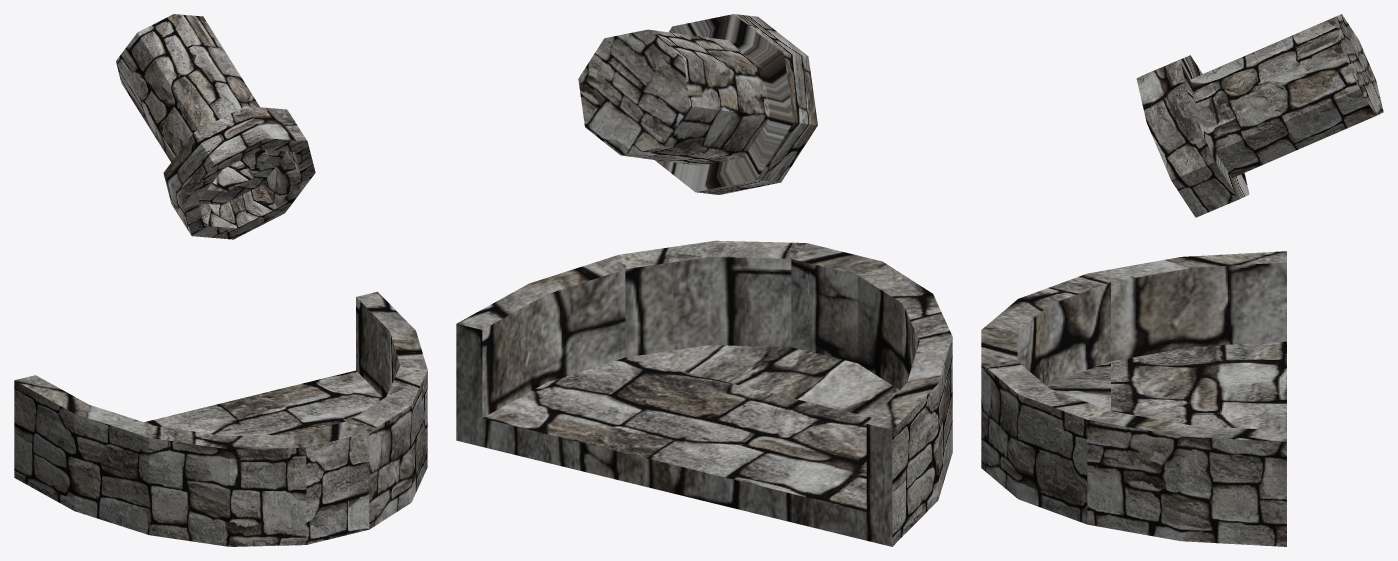
The model's file is LowPoly_Tomedelic_WaterFountain.fbx.
3 views of the same model, side by side, from view 1: azimuth 30°, elevation 25°; view 2: azimuth 150°, elevation 25°; view 3: azimuth 270°, elevation 25° (orthographic). The views are drawn at different scales.
Parts seen in each view (by area): view 1: Cube, Cylinder; view 2: Cube, Cylinder; view 3: Cube, Cylinder.
Boxes of the visible parts, x1,y1,x2,y2 form: Cube: (14,291,427,546); Cylinder: (116,14,315,239); Cube: (456,240,952,546); Cylinder: (578,14,817,194); Cube: (981,251,1286,546); Cylinder: (1136,14,1383,217).
Bounding box in the file's own units: 2.08 × 2.21 × 1.85.
